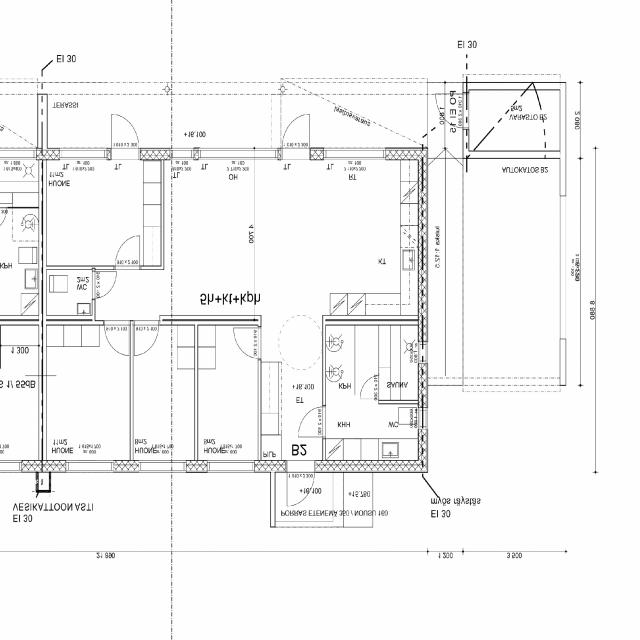door: (287, 460, 315, 507), (282, 114, 310, 160), (112, 114, 138, 160), (436, 94, 469, 127), (105, 315, 129, 356), (134, 315, 158, 355), (115, 236, 140, 270), (298, 407, 326, 437), (234, 328, 261, 358), (92, 271, 116, 298), (360, 376, 380, 399)
